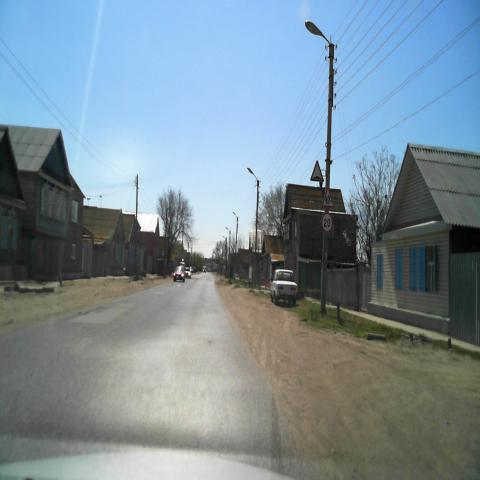3_24: (321, 211, 333, 233)
